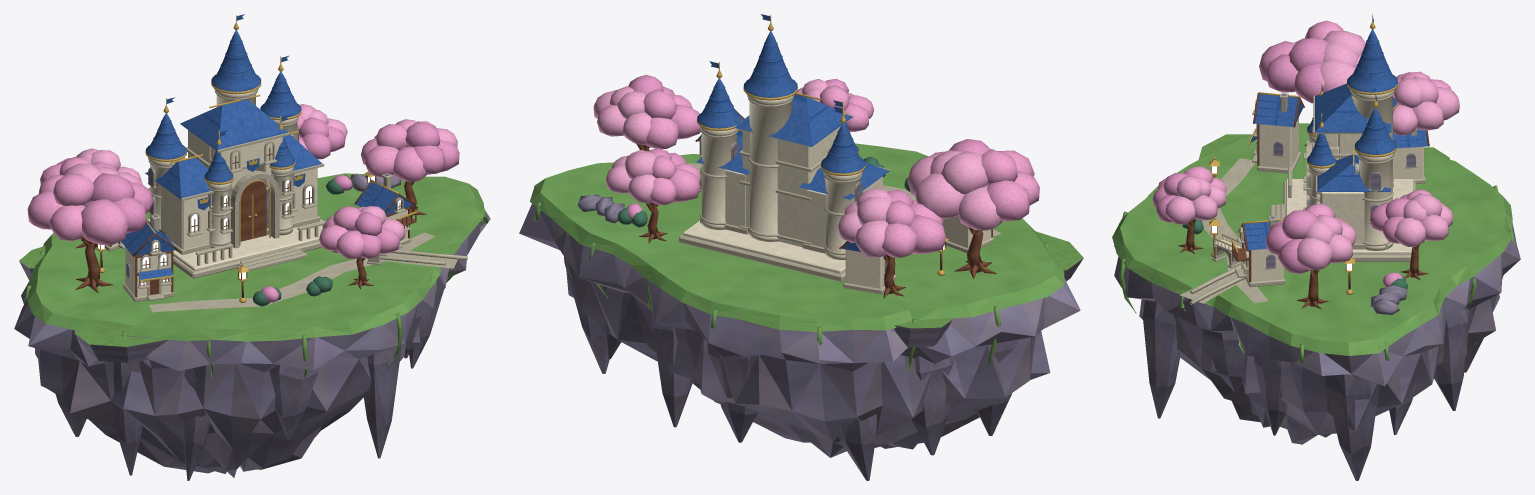
Rendered from royal-island-right.glb.
3 views of the same model, side by side, from view 1: azimuth 30°, elevation 25°; view 2: azimuth 150°, elevation 25°; view 3: azimuth 270°, elevation 25° (orthographic). The views are drawn at different scales.
Parts seen in each view (by area): view 1: royal-island-right; view 2: royal-island-right; view 3: royal-island-right.
Part boxes in pixels (bbox=[...]): royal-island-right: bbox=[14, 14, 490, 480]; royal-island-right: bbox=[519, 14, 1083, 480]; royal-island-right: bbox=[1112, 14, 1520, 480].
Size of the model in its own units: 18.37 by 15.26 by 13.32.
Materials: 10 (10 with a texture image).
